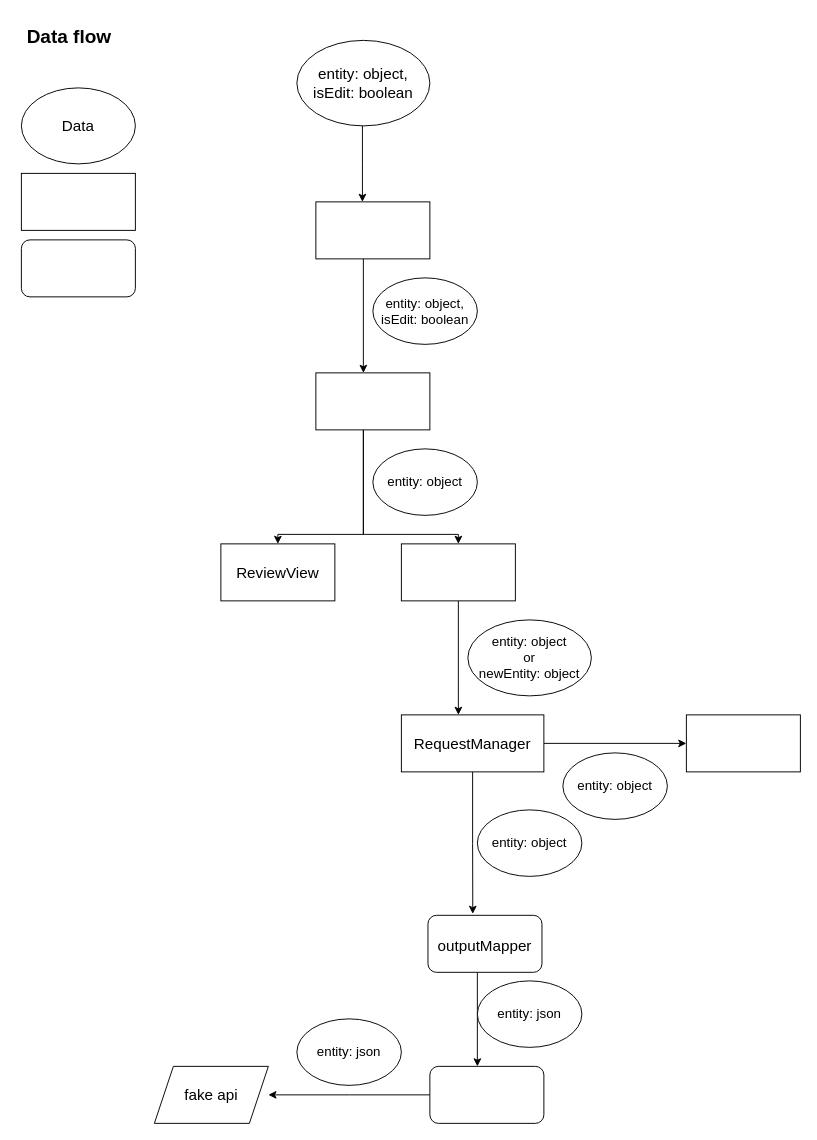
Image size: 817x1140. Some labels were removed from this diagram. The centre of each missing label's shape, as x and y in pixels:
"Component" goes at point (77, 201).
"EditView" goes at point (457, 572).
"Form" goes at point (372, 230).
"Function" goes at point (77, 268).
"submitter" goes at point (486, 1094).
"Validator" goes at point (742, 743).
"ViewManager" goes at point (372, 401).
